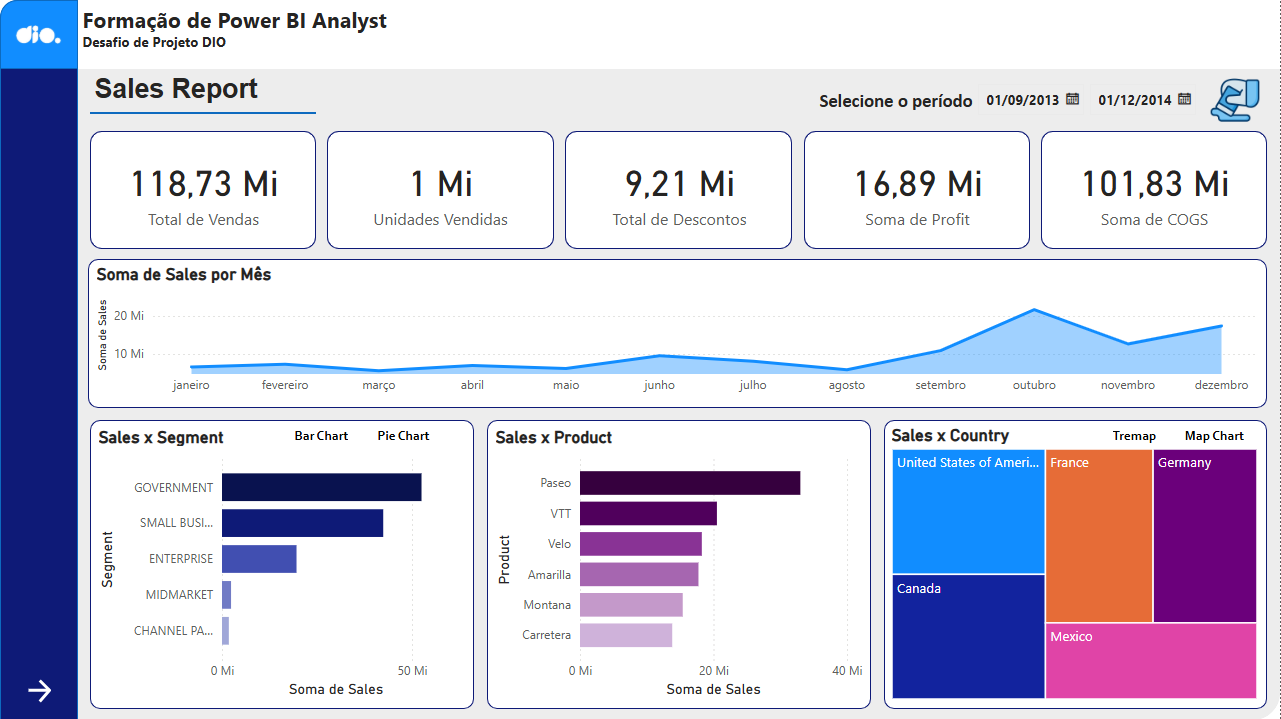

This screenshot's page, from the dashboard's own definition file:
{"tool":"powerbi","page":{"name":"Sales Report","canvas":[1280,720],"ordinal":0},"visuals":[{"type":"shape","box":[0,0,1280,720],"z":0},{"type":"shape","box":[90,101,226.4,24.4],"z":0,"group":"g3"},{"type":"shape","box":[90,130.7,226.4,118.2],"z":0,"group":"g1"},{"type":"areaChart","fields":{"Y":["Sum(financials.Sales)"],"Category":["financials.Date.Variation.Hierarquia de datas.Mês"]},"box":[91.8,263.6,1171.8,139.1],"z":0,"group":"g2"},{"type":"treemap","title":"Sales x Country","fields":{"Group":["financials.Country"],"Values":["Sum(financials.Sales)"]},"box":[887.6,425.6,375.1,278.4],"z":0,"group":"g4"},{"type":"donutChart","title":"Sales x Segment PIE","fields":{"Y":["Sum(financials.Sales)"],"Category":["financials.Segment"]},"box":[98.1,427.3,371.8,274.5],"z":0,"group":"g5"},{"type":"shape","box":[0,0,78.2,720],"z":1000},{"type":"textbox","box":[90,69.1,226.4,44.2],"z":1000,"group":"g3"},{"type":"textbox","box":[803.6,83.6,185.5,40],"z":1000,"group":"g2"},{"type":"shape","box":[327.3,130.7,226.4,118.2],"z":1000,"group":"g1"},{"type":"clusteredBarChart","title":"Sales x Segment","fields":{"Y":["Sum(financials.Sales)"],"Category":["financials.Segment"]},"box":[93.6,427.3,376.4,274.5],"z":1000,"group":"g5"},{"type":"shape","box":[0,0,78.2,69.1],"z":2000},{"type":"actionButton","box":[1203.6,69.1,63.6,61.8],"z":2000,"group":"g2"},{"type":"shape","box":[565.5,130.7,226.4,118.2],"z":2000,"group":"g1"},{"type":"actionButton","title":"Botão - Pie","box":[367.1,420.3,73.6,31],"z":2000,"group":"g5"},{"type":"actionButton","title":"Botão - Tremap","box":[1098.6,420.3,73.6,31],"z":2000,"group":"g4"},{"type":"image","title":"Logo_DIO","box":[0,0,78,69.2],"z":3000},{"type":"image","title":"Clean","box":[1203.6,69.1,63.6,61.8],"z":3000,"group":"g2"},{"type":"shape","box":[803.6,130.7,226.4,118.2],"z":3000,"group":"g1"},{"type":"actionButton","title":"Botão - Bar","box":[284.6,420.3,73.6,31],"z":3000,"group":"g5"},{"type":"actionButton","title":"Botão - Map","box":[1178.4,420.3,73.6,31],"z":3000,"group":"g4"},{"type":"textbox","box":[78.2,0,1201.8,69.1],"z":4000},{"type":"shape","box":[1040.9,130.7,226.4,118.2],"z":4000,"group":"g1"},{"type":"group","id":"g1","title":"Cartões","box":[90,130.7,1177.3,118.2],"z":5000},{"type":"card","fields":{"Values":["Sum(financials.Units Sold)"]},"box":[335.5,133.7,210.9,111.8],"z":5000,"group":"g1"},{"type":"card","fields":{"Values":["Sum(financials.COGS)"]},"box":[1049.1,133.7,210.9,111.8],"z":6000,"group":"g1"},{"type":"shape","box":[88.2,259.1,1179.1,149.1],"z":6000},{"type":"card","fields":{"Values":["Sum(financials.Profit)"]},"box":[811.8,133.7,210.9,111.8],"z":7000,"group":"g1"},{"type":"shape","box":[884,420.3,383.1,289.1],"z":7000},{"type":"card","fields":{"Values":["Sum(financials.Discounts)"]},"box":[573.6,133.7,210.9,111.8],"z":8000,"group":"g1"},{"type":"shape","box":[487.3,420,383.6,289.1],"z":8000},{"type":"card","fields":{"Values":["Sum(financials.Sales)"]},"box":[98.2,133.7,210.9,111.8],"z":9000,"group":"g1"},{"type":"shape","box":[90,420,383.6,289.1],"z":9000},{"type":"clusteredBarChart","title":"Sales x Product","fields":{"Y":["Sum(financials.Sales)"],"Category":["financials.Product"]},"box":[490.9,427.3,376.4,274.5],"z":10000},{"type":"slicer","fields":{"Values":["financials.Date"]},"box":[964.5,73.6,239.1,51.8],"z":11000},{"type":"group","id":"g2","title":"Filtro por Data","box":[91.8,69.1,1175.5,333.6],"z":12000},{"type":"group","id":"g3","title":"Title Report","box":[90,69.1,226.4,56.4],"z":13000},{"type":"actionButton","title":"Botão Pág 2","box":[22.7,672.7,31.8,36.4],"z":14000},{"type":"group","id":"g4","title":"Sale x Country","box":[884.3,420.3,379.1,283.7],"z":16000},{"type":"group","id":"g5","title":"Sale x Segment","box":[93.6,420.3,376.4,281.5],"z":16500}]}

Visuals, with their boxes on the page's 1280x720 design canvas (x1, y1, x2, y2). These are canvas units, not pixel positions in the 1281x719 screenshot, which may show the page scaled, cropped or inside an application window:
shape: x1=0 y1=0 x2=1280 y2=720
shape: x1=90 y1=101 x2=316 y2=125
shape: x1=90 y1=131 x2=316 y2=249
areaChart - Sum(financials.Sales) x financials.Date.Variation.Hierarquia de datas.Mês: x1=92 y1=264 x2=1264 y2=403
"Sales x Country" treemap: x1=888 y1=426 x2=1263 y2=704
"Sales x Segment PIE" donutChart: x1=98 y1=427 x2=470 y2=702
shape: x1=0 y1=0 x2=78 y2=720
textbox: x1=90 y1=69 x2=316 y2=113
textbox: x1=804 y1=84 x2=989 y2=124
shape: x1=327 y1=131 x2=554 y2=249
"Sales x Segment" clusteredBarChart: x1=94 y1=427 x2=470 y2=702
shape: x1=0 y1=0 x2=78 y2=69
actionButton: x1=1204 y1=69 x2=1267 y2=131
shape: x1=566 y1=131 x2=792 y2=249
"Botão - Pie" actionButton: x1=367 y1=420 x2=441 y2=451
"Botão - Tremap" actionButton: x1=1099 y1=420 x2=1172 y2=451
"Logo_DIO" image: x1=0 y1=0 x2=78 y2=69
"Clean" image: x1=1204 y1=69 x2=1267 y2=131
shape: x1=804 y1=131 x2=1030 y2=249
"Botão - Bar" actionButton: x1=285 y1=420 x2=358 y2=451
"Botão - Map" actionButton: x1=1178 y1=420 x2=1252 y2=451
textbox: x1=78 y1=0 x2=1280 y2=69
shape: x1=1041 y1=131 x2=1267 y2=249
"Cartões" group: x1=90 y1=131 x2=1267 y2=249
card - Sum(financials.Units Sold): x1=336 y1=134 x2=546 y2=246
card - Sum(financials.COGS): x1=1049 y1=134 x2=1260 y2=246
shape: x1=88 y1=259 x2=1267 y2=408
card - Sum(financials.Profit): x1=812 y1=134 x2=1023 y2=246
shape: x1=884 y1=420 x2=1267 y2=709
card - Sum(financials.Discounts): x1=574 y1=134 x2=784 y2=246
shape: x1=487 y1=420 x2=871 y2=709
card - Sum(financials.Sales): x1=98 y1=134 x2=309 y2=246
shape: x1=90 y1=420 x2=474 y2=709
"Sales x Product" clusteredBarChart: x1=491 y1=427 x2=867 y2=702
slicer - financials.Date: x1=964 y1=74 x2=1204 y2=125
"Filtro por Data" group: x1=92 y1=69 x2=1267 y2=403
"Title Report" group: x1=90 y1=69 x2=316 y2=126
"Botão Pág 2" actionButton: x1=23 y1=673 x2=54 y2=709
"Sale x Country" group: x1=884 y1=420 x2=1263 y2=704
"Sale x Segment" group: x1=94 y1=420 x2=470 y2=702
